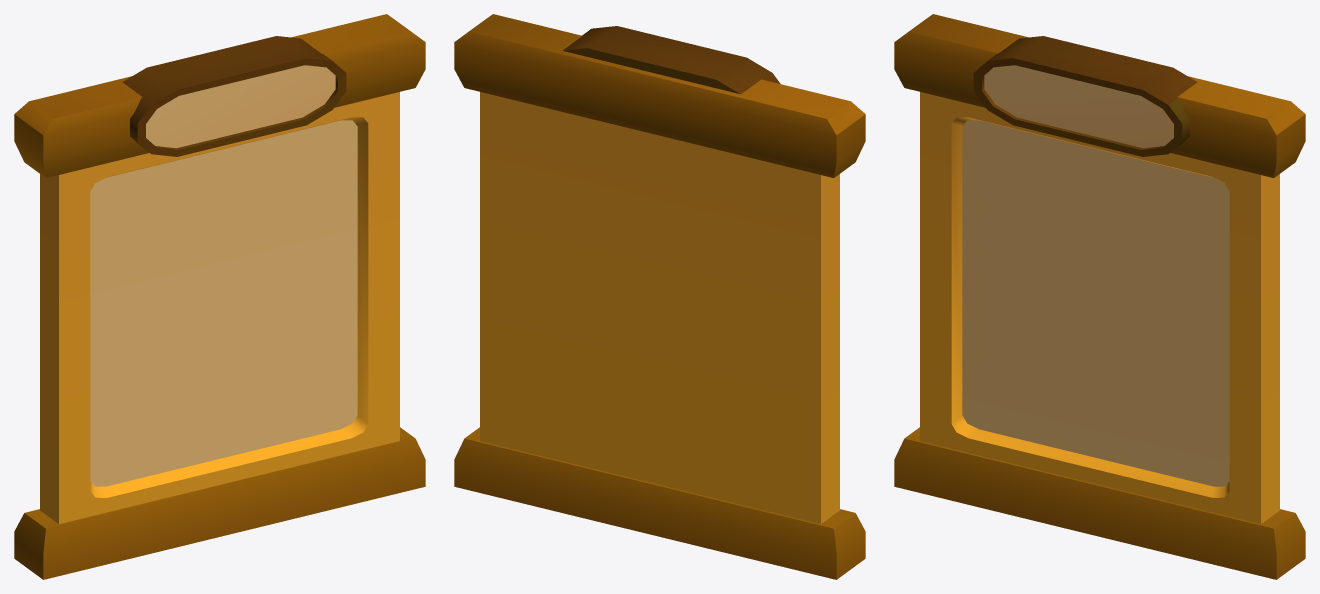
The model's file is leaderboard (2).fbx.
3 renders of one model, left to right at view 1: azimuth 30°, elevation 25°; view 2: azimuth 150°, elevation 25°; view 3: azimuth 330°, elevation 25°, orthographic.
Visible parts, largest first — view 1: leaderboard; view 2: leaderboard; view 3: leaderboard.
Boxes of the visible parts, <box> form: leaderboard: <box>14,14,425,579</box>; leaderboard: <box>454,14,865,579</box>; leaderboard: <box>894,14,1305,579</box>.
Bounding box in the file's own units: 387 × 449 × 64.09.
